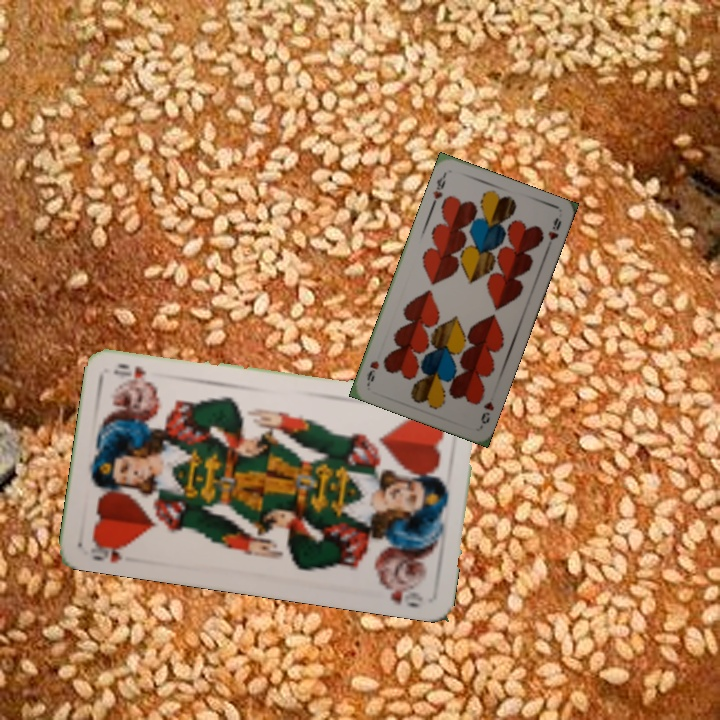H9: (428, 169, 449, 201), (476, 397, 497, 427)
HO: (87, 536, 130, 565)
